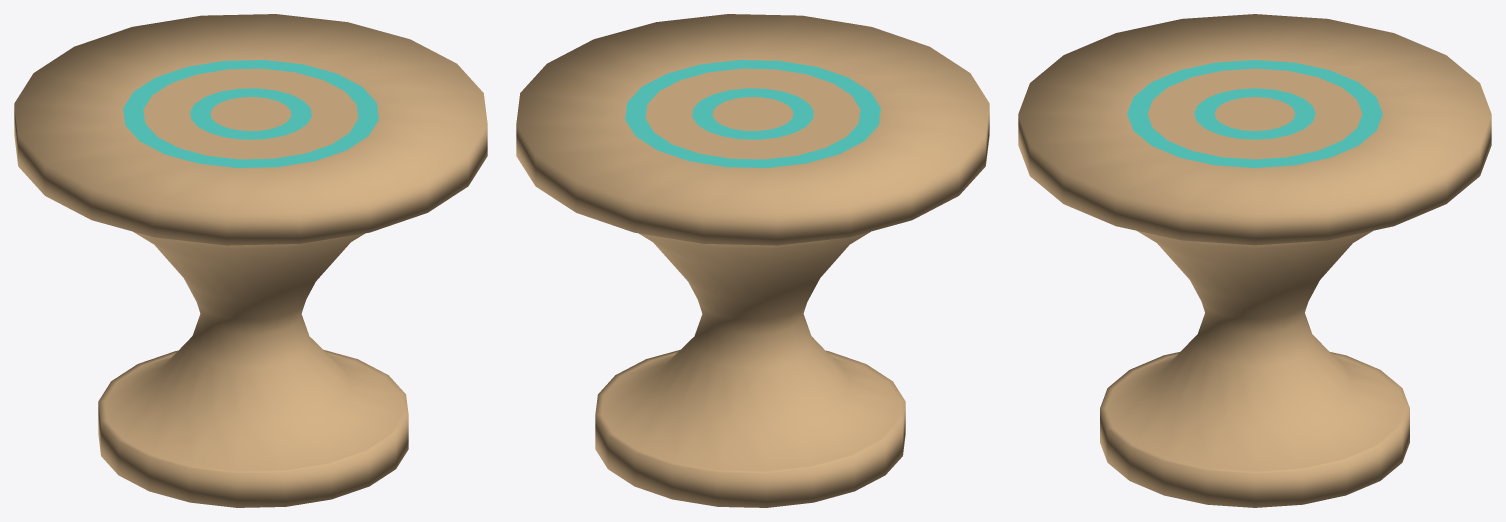
The model's file is mesa.fbx.
3 views of the same model, side by side, from view 1: azimuth 30°, elevation 25°; view 2: azimuth 150°, elevation 25°; view 3: azimuth 270°, elevation 25° (orthographic).
Visible parts, largest first — view 1: Circle; view 2: Circle; view 3: Circle.
Boxes of the visible parts, x1,y1,x2,y2 form: Circle: (14, 14, 487, 507); Circle: (516, 14, 989, 507); Circle: (1018, 14, 1491, 507).
Bounding box in the file's own units: 305 × 233 × 305.
